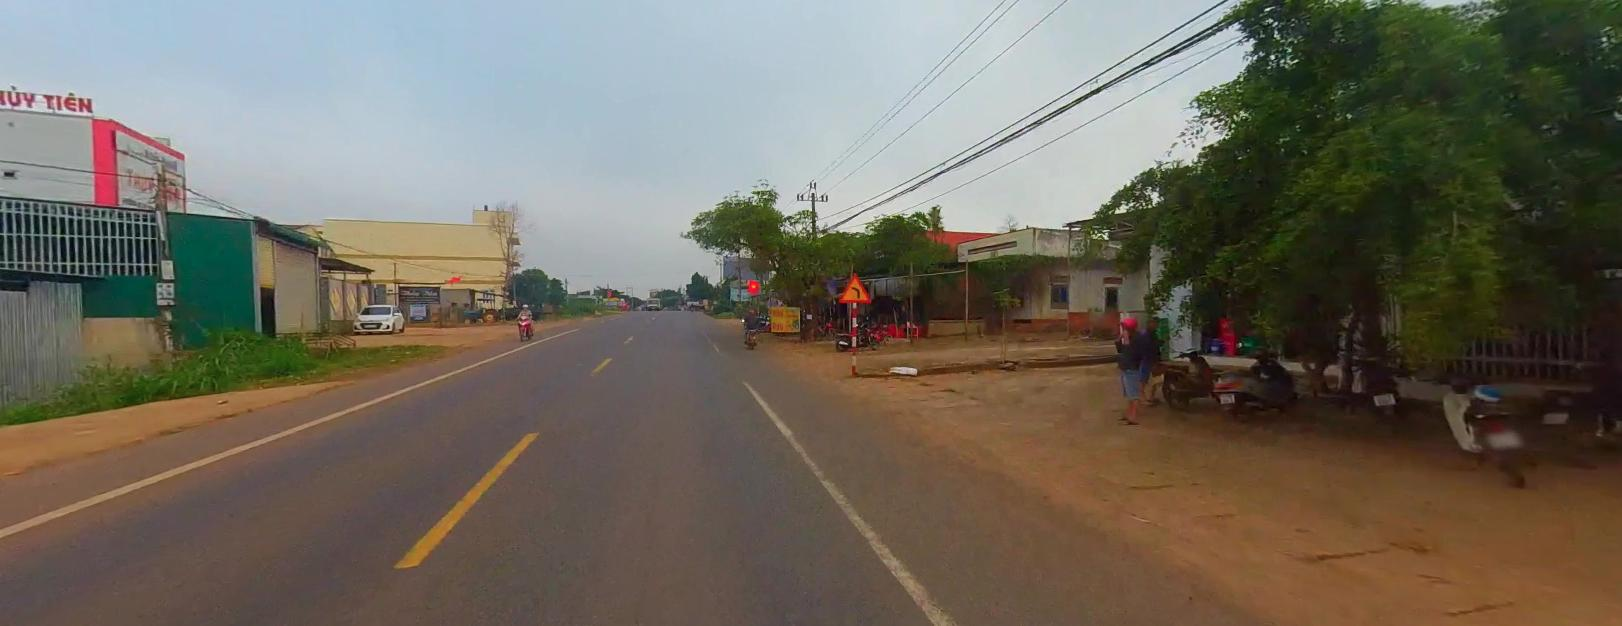Nguy hiem: (836, 269, 872, 301)
